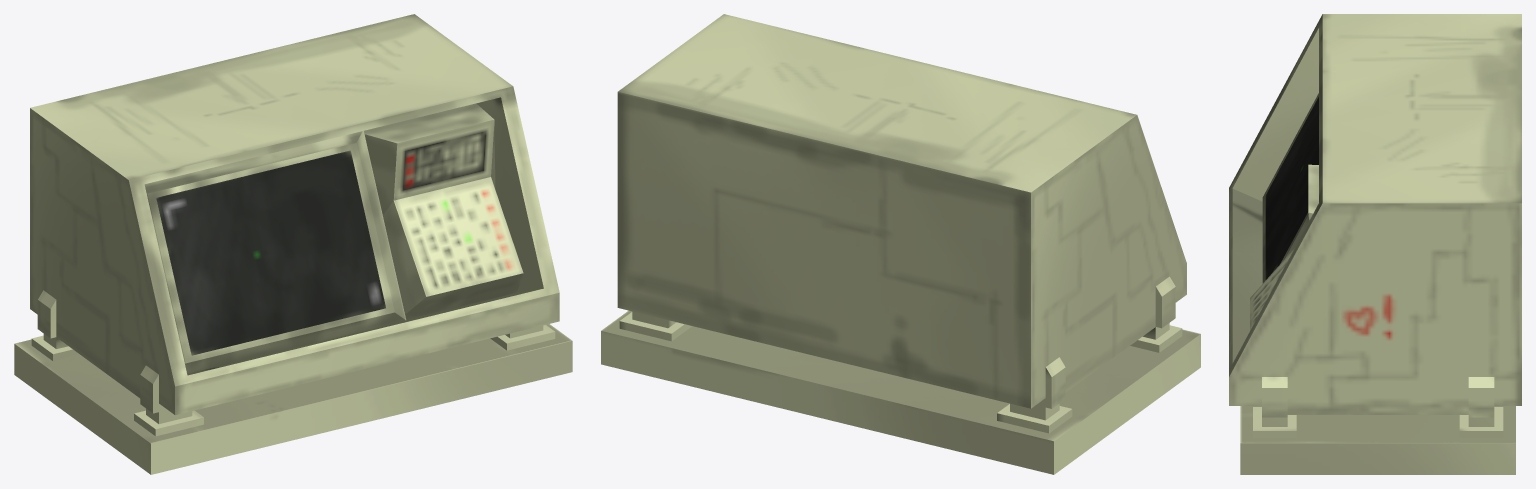
File: monitor_brutalist.fbx
The picture shows the model from 3 angles, left to right: view 1: azimuth 30°, elevation 25°; view 2: azimuth 150°, elevation 25°; view 3: azimuth 270°, elevation 25°; orthographic projection. The views are drawn at different scales.
Parts seen in each view (by area): view 1: Cube.001; view 2: Cube.001; view 3: Cube.001.
Boxes of the visible parts, x1=… form: Cube.001: x1=14, y1=14, x2=572, y2=474; Cube.001: x1=601, y1=14, x2=1200, y2=474; Cube.001: x1=1229, y1=14, x2=1521, y2=474.
Bounding box in the file's own units: 50 × 29.52 × 29.83.
Materials: 1 (1 with a texture image).
